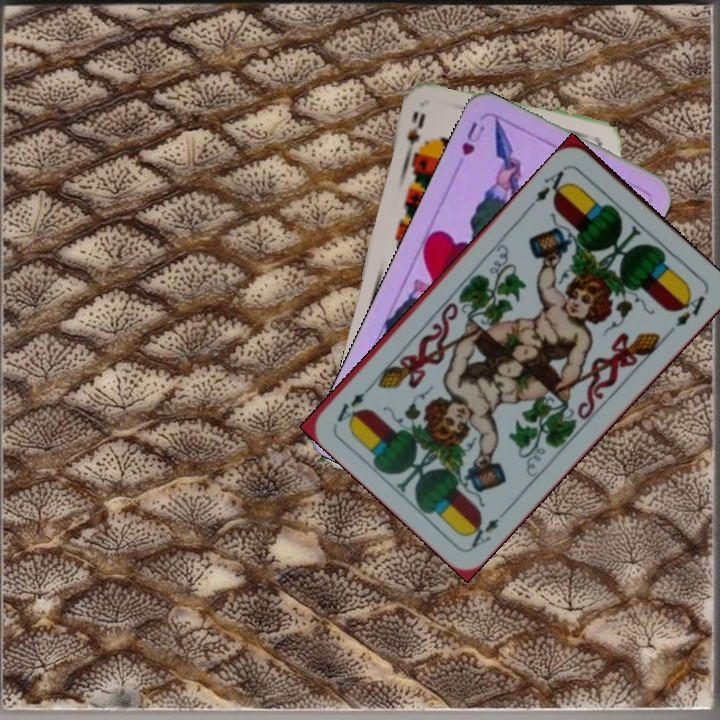EA: (462, 504, 512, 551), (526, 162, 571, 210)
HU: (457, 117, 488, 159)
S9: (402, 107, 428, 162)
